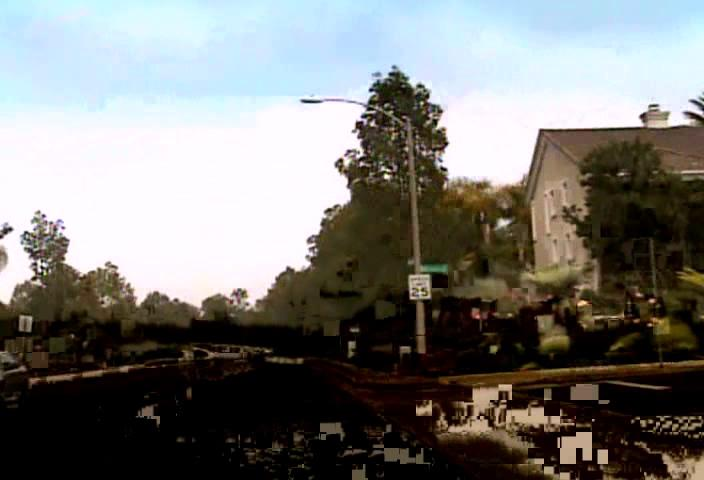speedLimit25: (407, 273, 431, 300)
